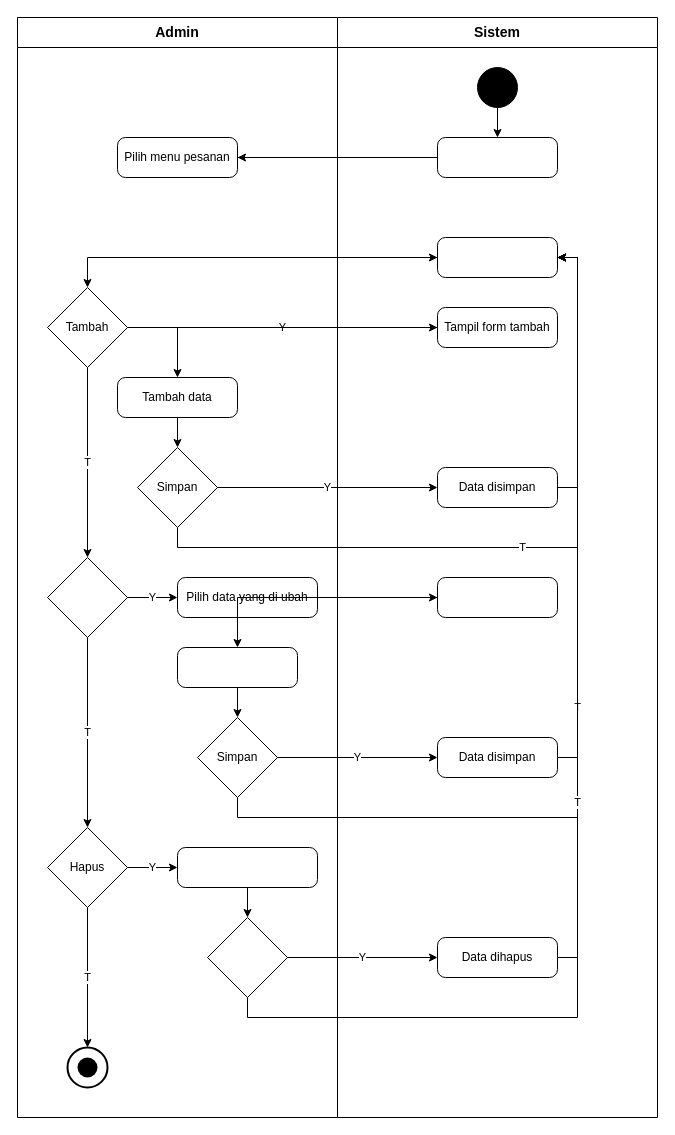
Some shapes in this 675 by 1135 pixel diagram are drawn without their labels. Each missing label, with the centre of its shape:
"Pilih data yang akan dihapus" belongs at point 247,867.
"Tampil beranda" belongs at point 497,157.
"Tampil data pesanan" belongs at point 497,257.
"Tampil form ubah" belongs at point 497,597.
"Ubah" belongs at point 87,597.
"Ubah data" belongs at point 237,667.
"Yakin hapus" belongs at point 247,957.
